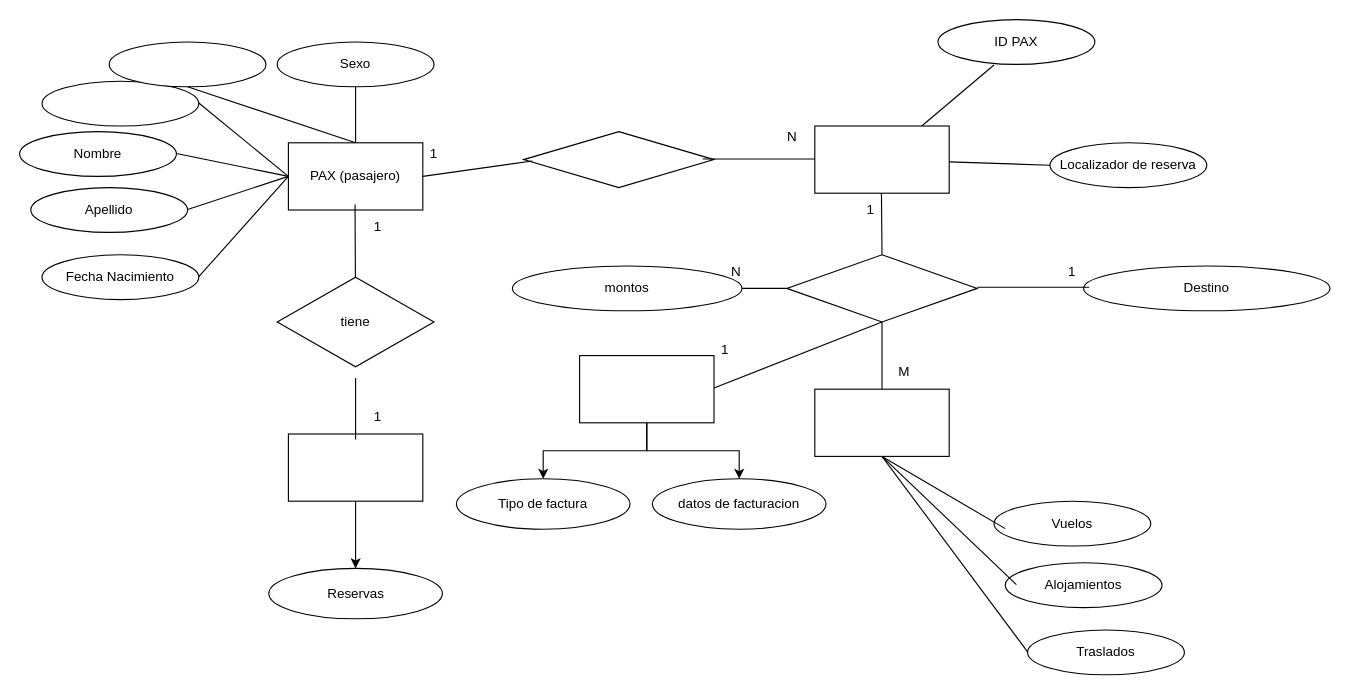
Some shapes in this 1350 by 694 pixel diagram are drawn without their labels. Here are the shapes that lost their labels. From the top down, the centre of each, then its label:
At pixel 187 64: "Edad".
At pixel 120 103: "DNI/Pasaporte".
At pixel 618 159: "realiza".
At pixel 881 159: "Reserva".
At pixel 881 288: "contiene".
At pixel 646 388: "FACTURACION".
At pixel 881 422: "productos".
At pixel 355 467: "historial de compra".
